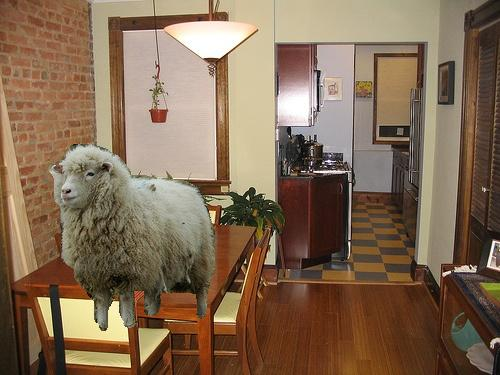tampered: (49, 145, 215, 331)
